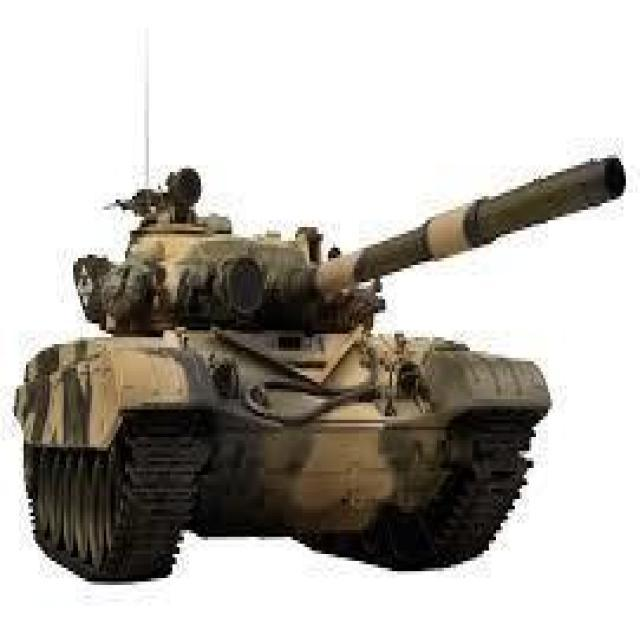MIL_MBT: (21, 36, 562, 618)
